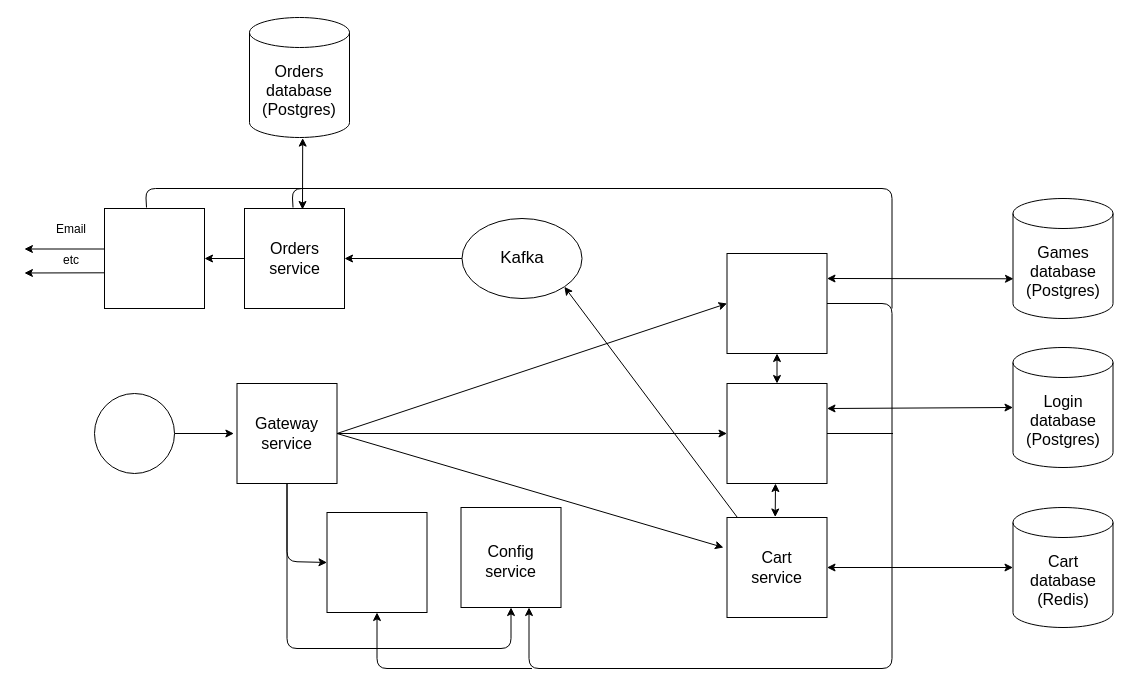
Image size: 1131x694. Some labels were removed from this diagram. The centre of each missing label's shape, as x and y in pixels:
Client: point (134, 433)
Discovery service: point (376, 562)
Games service: point (776, 303)
Login service: point (776, 433)
Notification service: point (154, 258)
